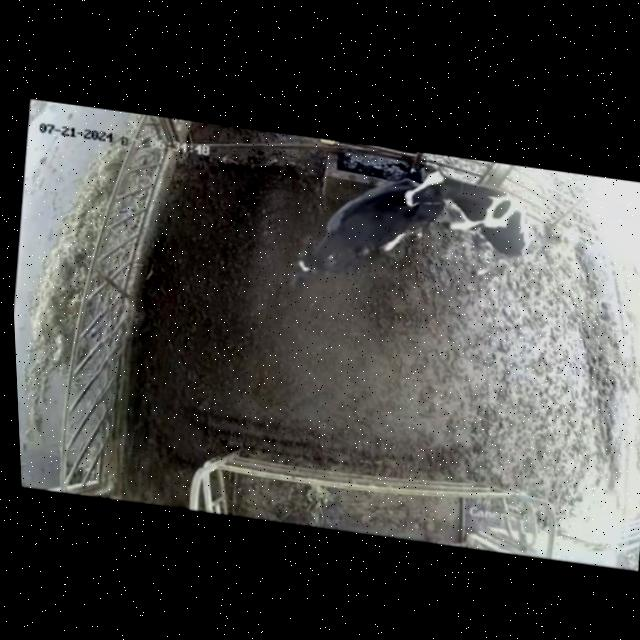ride: (386, 164, 562, 296)
stand: (271, 161, 450, 315)
